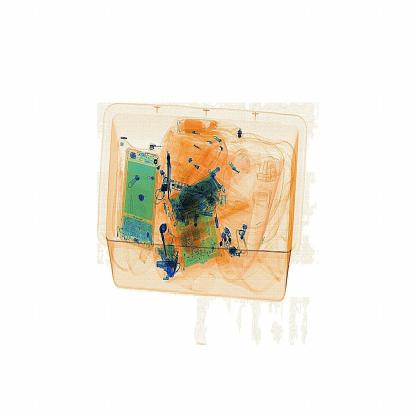wrench: (159, 142, 182, 207)
